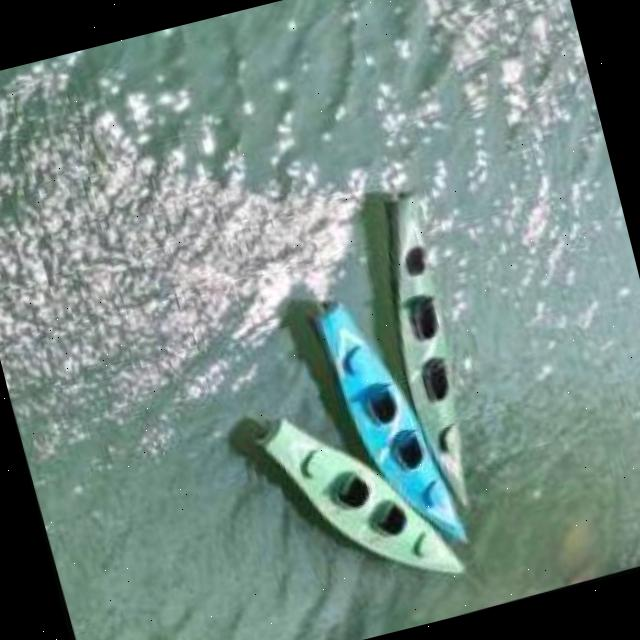kayak: (223, 197, 463, 582), (291, 279, 465, 535)
